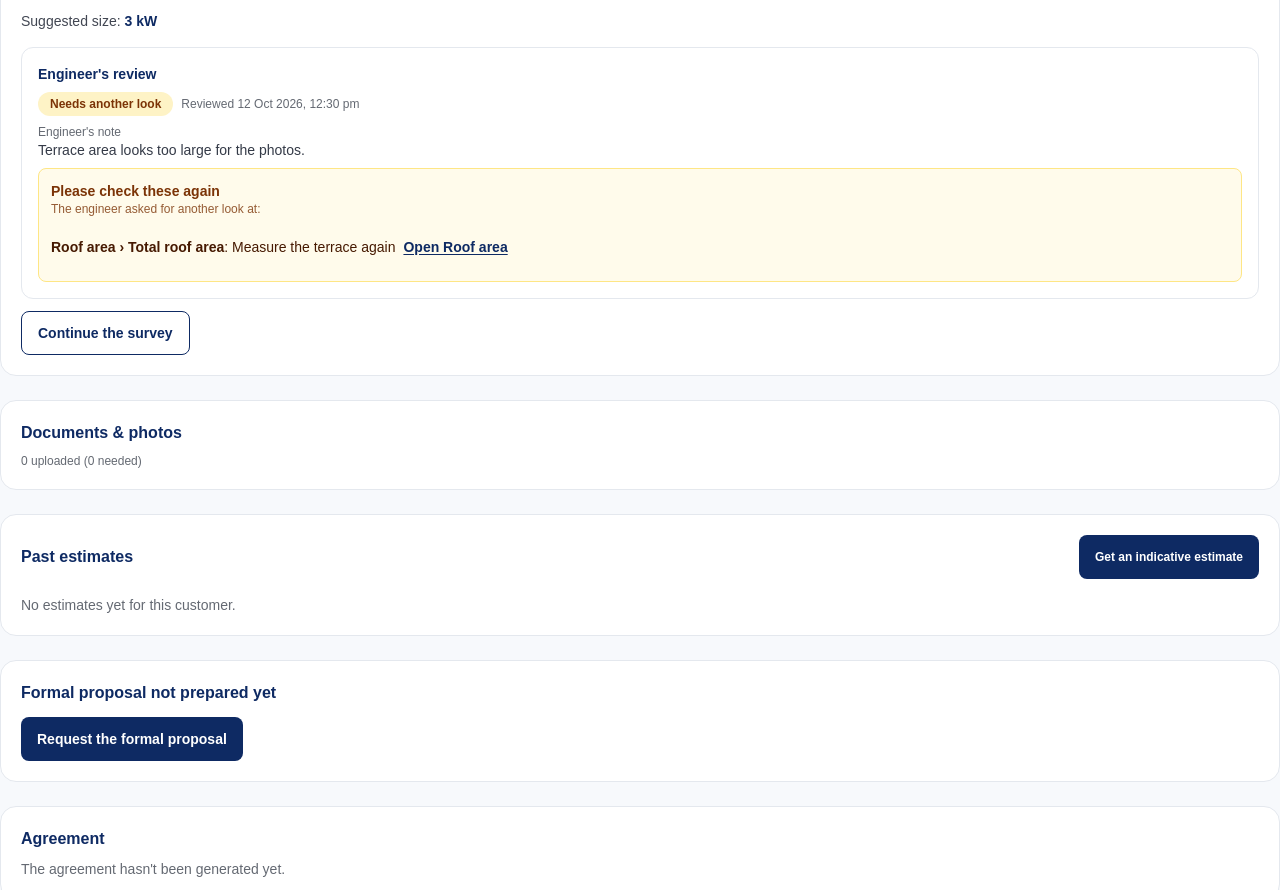
it: Formal proposal (N1 owner-only + the review gate) › 409 survey_review_required becomes a translated message and then keeps the button off
(page scrolled)
Click the button "Request the formal proposal" at [132, 739], box [21,717,243,761]
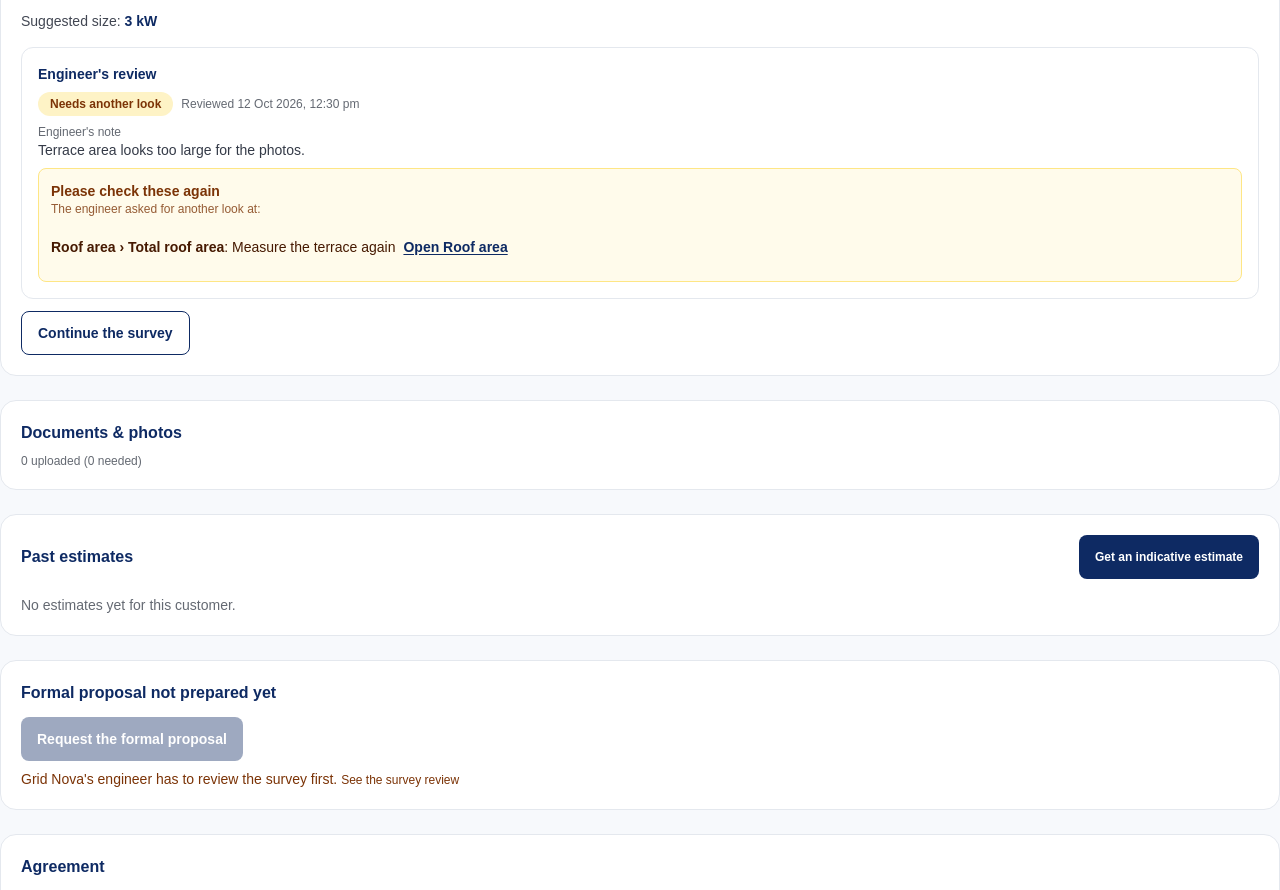
Expected: the message with test id "proposal-gate" shows "Grid Nova's engineer has to review the survey first.", [21,771,337,787]
Expected: the button "Request the formal proposal" is disabled, [21,717,243,761]
